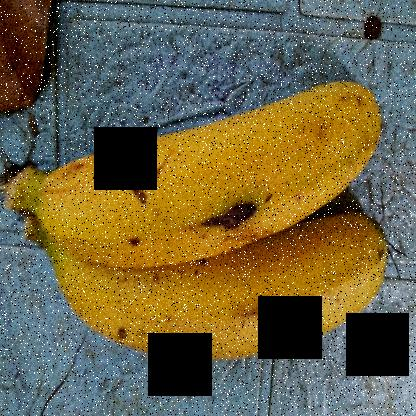freshripe: (25, 238, 394, 380)
ripe: (43, 26, 400, 274)
